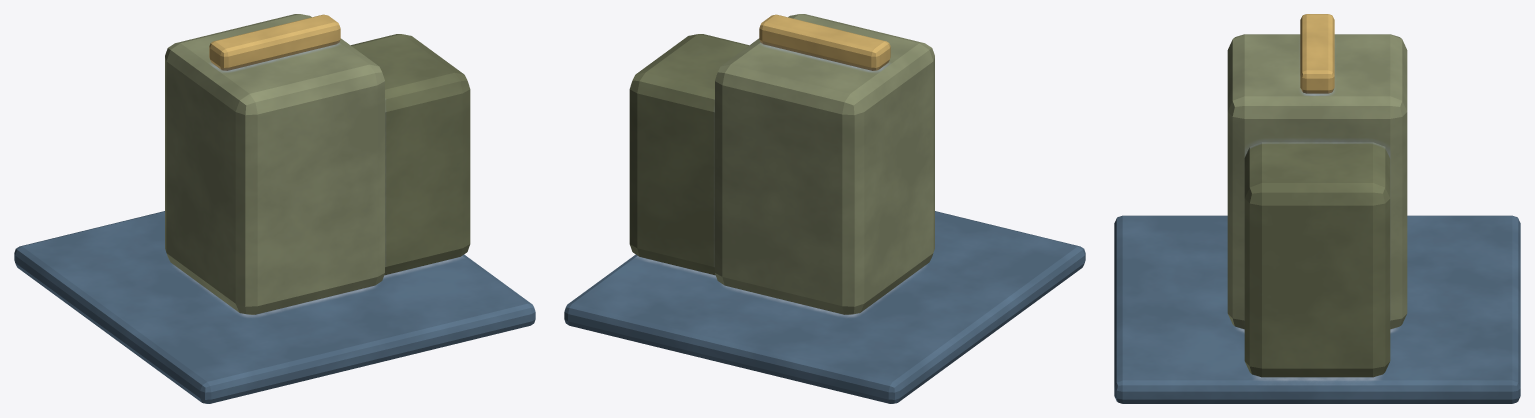
File: com_wall_cap.glb
The picture shows the model from 3 angles, left to right: view 1: azimuth 30°, elevation 25°; view 2: azimuth 150°, elevation 25°; view 3: azimuth 270°, elevation 25°; orthographic projection. The views are drawn at different scales.
Parts seen in each view (by area): view 1: com_wall_cap; view 2: com_wall_cap; view 3: com_wall_cap.
Part boxes in pixels (box(x1,y1,x2,y2)): com_wall_cap: box(14, 14, 535, 403); com_wall_cap: box(564, 14, 1085, 403); com_wall_cap: box(1114, 14, 1520, 403).
Bounding box in the file's own units: 0.95 × 0.72 × 0.95.
1 material, 1 textured.
